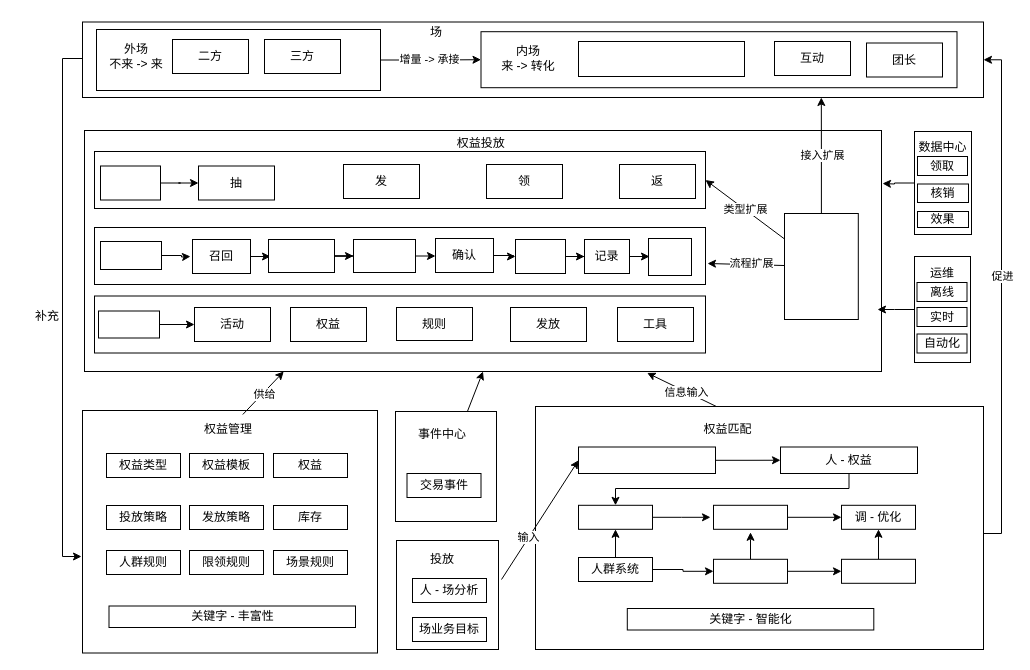
Some shapes in this 1030 by 670 pixel diagram are drawn without their labels. Here are the shapes that lost their labels. From the top down, the centre of each, then its label:
At pixel 661 58: "小程序 - 首页、频道、会场".
At pixel 130 182: "权益形态".
At pixel 131 255: "权益流程".
At pixel 301 255: "检查".
At pixel 384 255: "匹配".
At pixel 540 256: "预扣".
At pixel 670 257: "回补".
At pixel 821 266: "关键字 - 开放性".
At pixel 129 324: "权益领域".
At pixel 647 460: "权益 - 场".
At pixel 615 516: "拆-分析".
At pixel 750 516: "证 - 实验".
At pixel 750 570: "实验系统".
At pixel 878 570: "算发策略系统".
